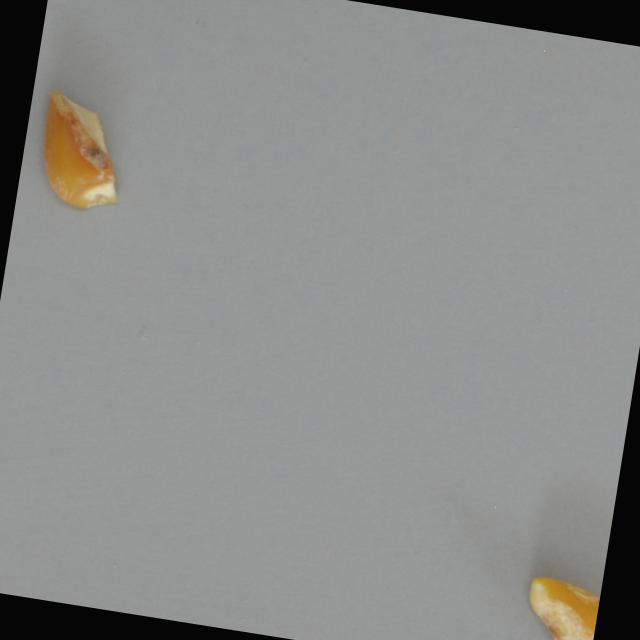dañado: (25, 86, 137, 218), (517, 572, 602, 640)
